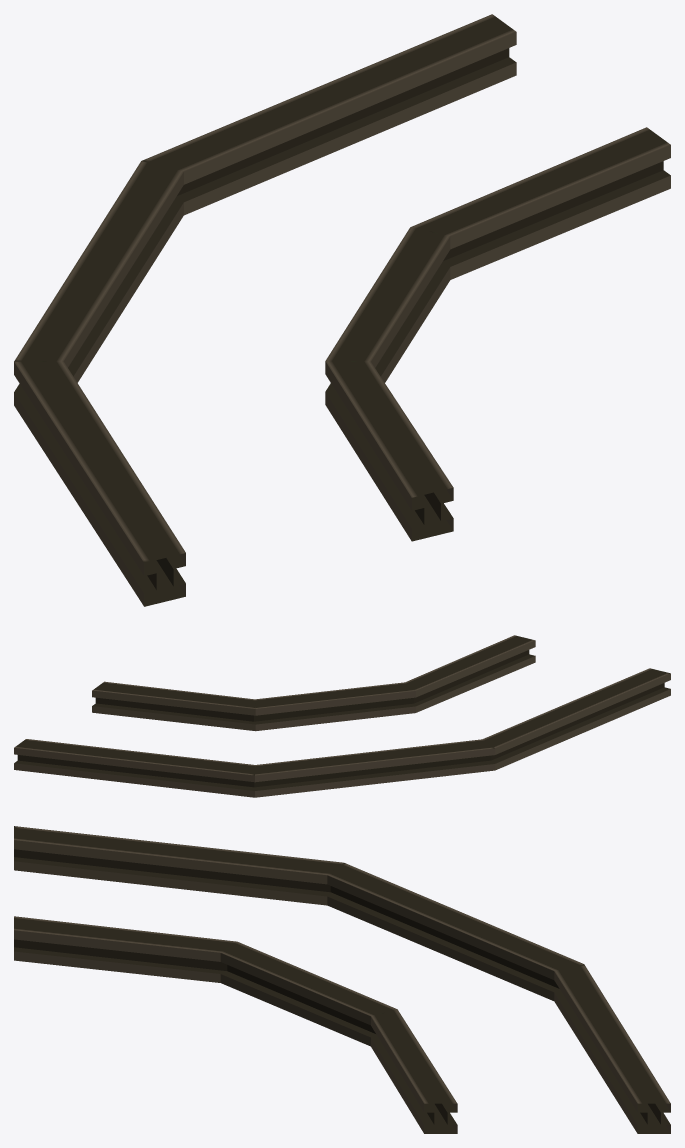
File: RoadCurve.fbx
3 renders of one model, top to bottom at view 1: azimuth 30°, elevation 25°; view 2: azimuth 150°, elevation 25°; view 3: azimuth 270°, elevation 25°, orthographic. The views are drawn at different scales.
Visible parts, largest first — view 1: Road02; view 2: Road02; view 3: Road02.
Part boxes in pixels (left/top/right/bottom): Road02: left=14, top=14, right=670, bottom=606; Road02: left=14, top=635, right=670, bottom=797; Road02: left=14, top=826, right=670, bottom=1133.
Bounding box in the file's own units: 616 × 31.25 × 616.
